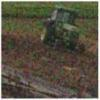tractors: (43, 7, 86, 53)
